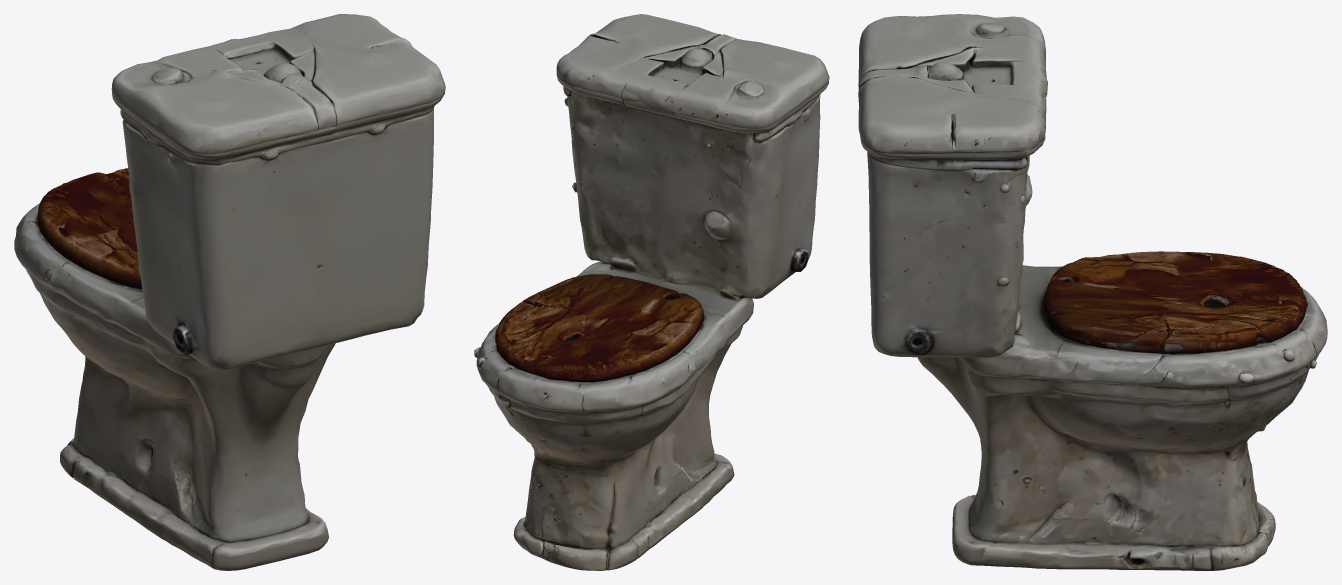
3 views of the same model, side by side, from view 1: azimuth 30°, elevation 25°; view 2: azimuth 150°, elevation 25°; view 3: azimuth 270°, elevation 25° (orthographic). The views are drawn at different scales.
Parts seen in each view (by area): view 1: tripo_node_97e80379-2140-4e90-bb40-dd26d79dcc42; view 2: tripo_node_97e80379-2140-4e90-bb40-dd26d79dcc42; view 3: tripo_node_97e80379-2140-4e90-bb40-dd26d79dcc42.
Boxes of the visible parts, bbox=[...] form: tripo_node_97e80379-2140-4e90-bb40-dd26d79dcc42: bbox=[14, 14, 445, 570]; tripo_node_97e80379-2140-4e90-bb40-dd26d79dcc42: bbox=[474, 14, 829, 570]; tripo_node_97e80379-2140-4e90-bb40-dd26d79dcc42: bbox=[858, 14, 1327, 570].
Bounding box in the file's own units: 0.5523 × 1 × 0.8936.
Materials: 1 (1 with a texture image).
